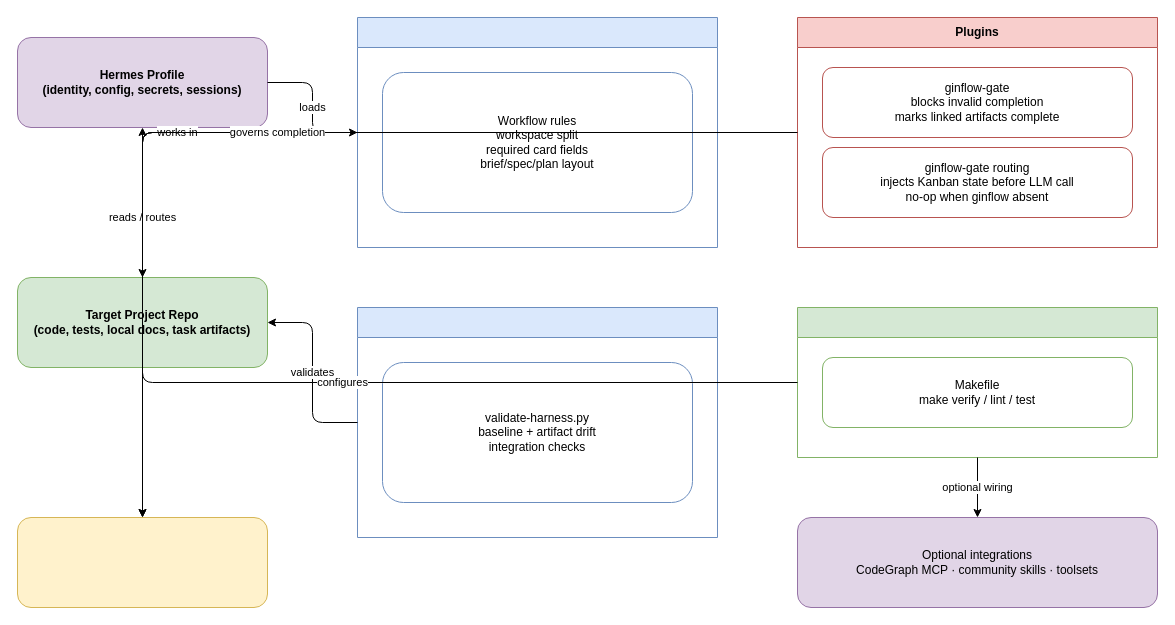
This 1175x625 diagram has some shape labels left out. The shapes that lost their labels are listed below. From the top down, each one's box as (x1, y1, x2, y2) in pixels, then its label:
(356, 16, 718, 248): ginflow Skill startup · shaping · execution · handoff
(796, 306, 1158, 458): Standalone Verification Scripts validation scripts · test harnesses
(356, 306, 718, 538): Ginflow Harness validator + reusable core + tests
(16, 516, 268, 608): Hermes Kanban (cards, status, workspace, links)
